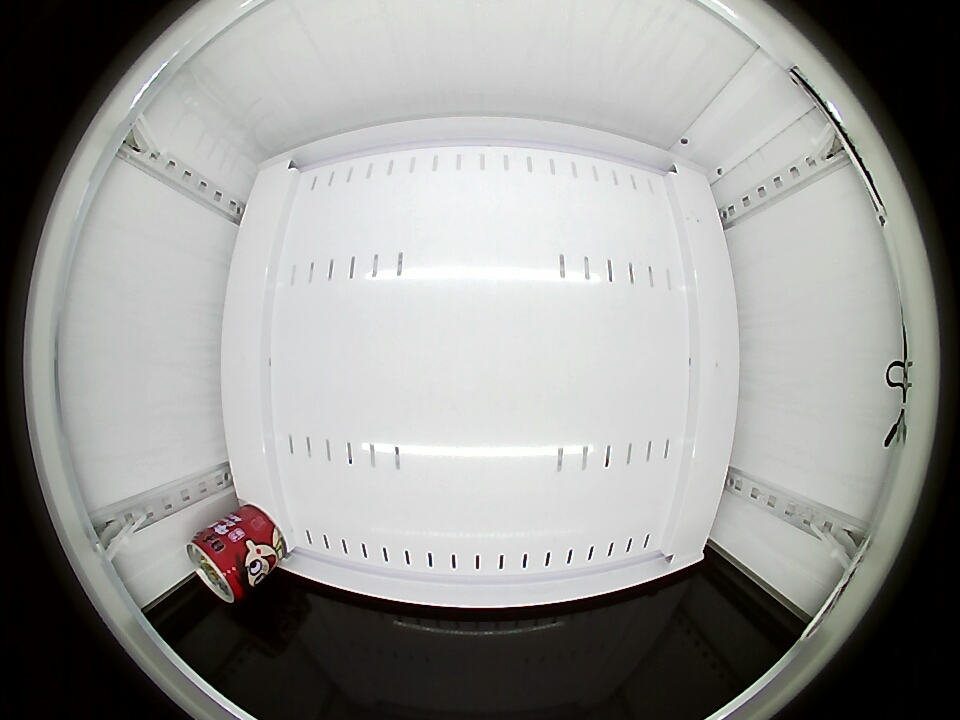wangzainiunai: (186, 524, 251, 604)
